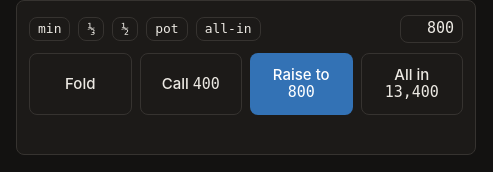
Test case: the action bar › writes the raise button's total from the preset the player pressed
What coordinates should you click on to do the following:
click the button "pot"
I would click on:
 (167, 29)
Its box is [146,16,188,41].
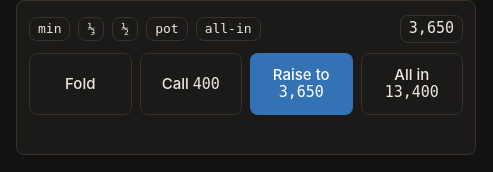
Expected: the button "Raise to 3,650" is shown, [250,53,352,114]
